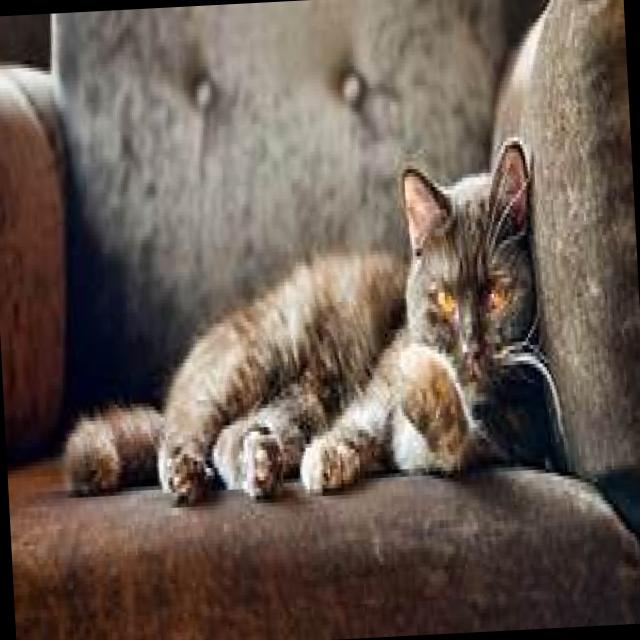animal: (49, 132, 555, 510)
